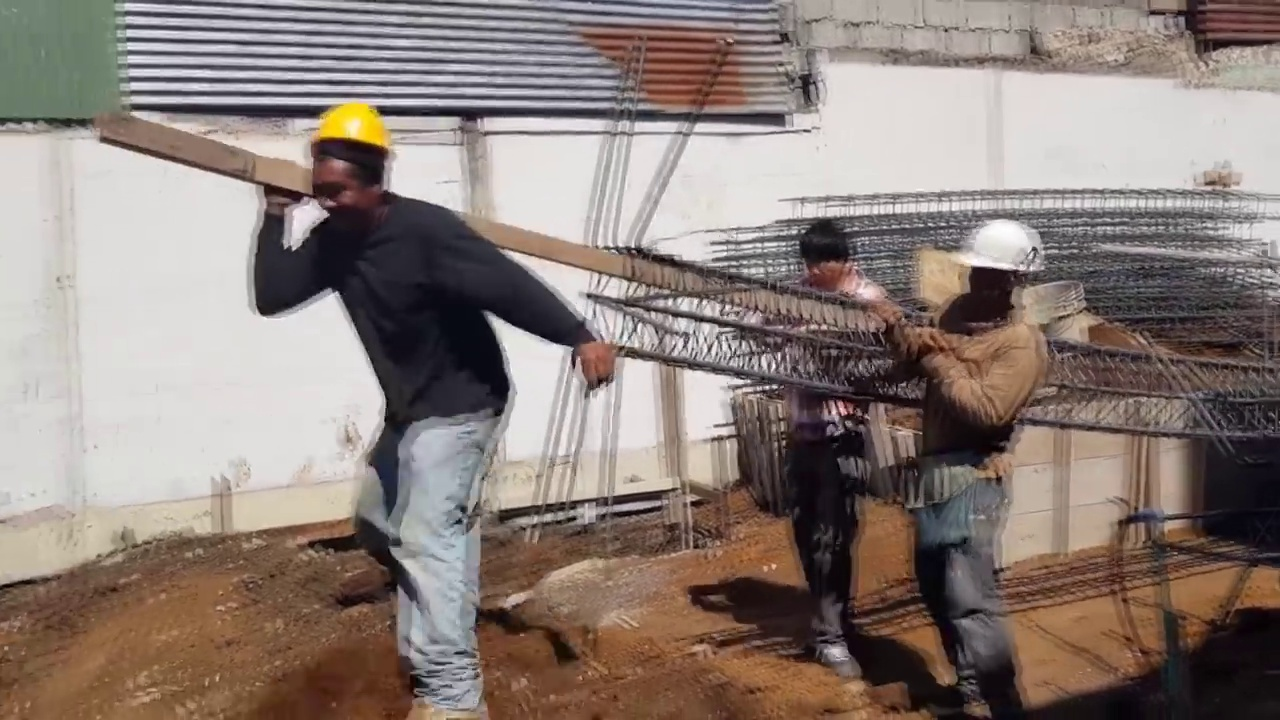helmet: (309, 94, 389, 163), (964, 219, 1047, 278)
helmet-off: (800, 227, 863, 293)
helmet-on: (310, 92, 399, 236), (954, 221, 1046, 324)
person: (254, 82, 613, 688), (867, 211, 1071, 720), (772, 209, 904, 715)
